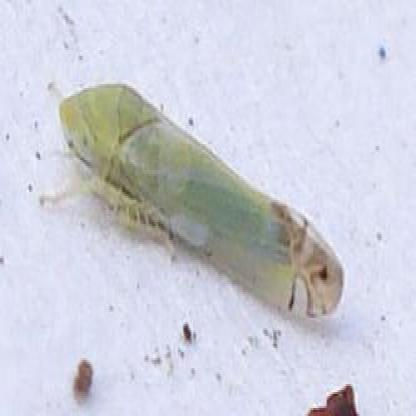green-leafhopper: (42, 81, 345, 317)
